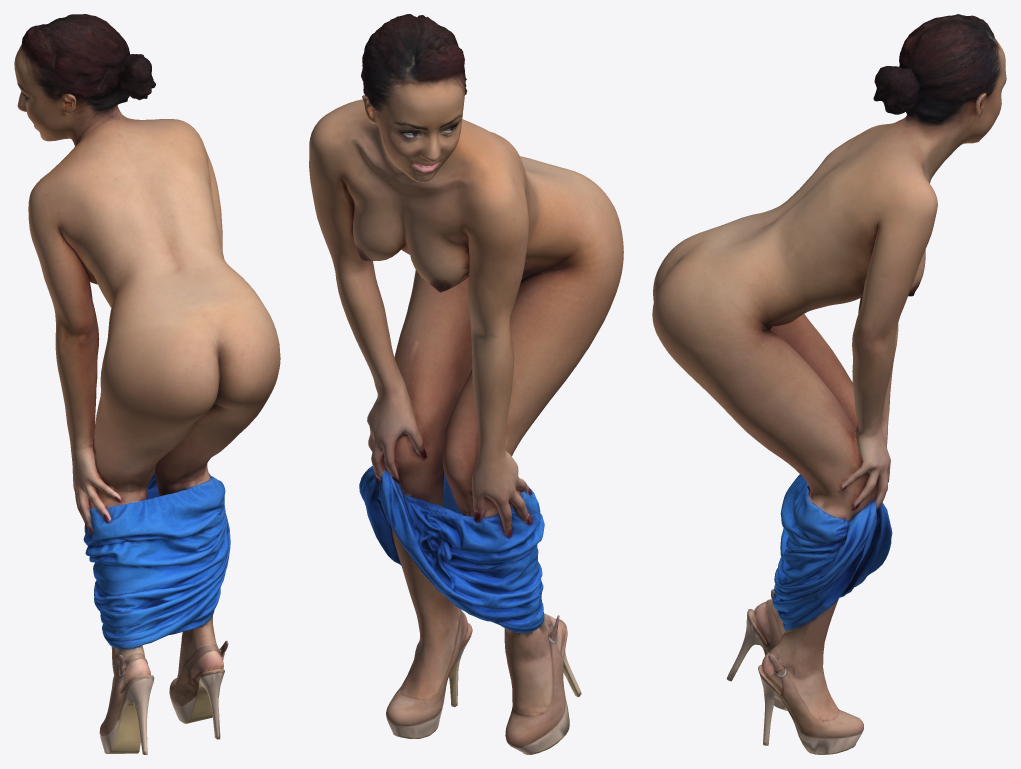
3 views of the same model, side by side, from view 1: azimuth 30°, elevation 25°; view 2: azimuth 150°, elevation 25°; view 3: azimuth 270°, elevation 25° (orthographic). The views are drawn at different scales.
Visible parts, largest first — view 1: 21_LOD2_0_3; view 2: 21_LOD2_0_3; view 3: 21_LOD2_0_3.
Boxes of the visible parts, bbox=[...] form: 21_LOD2_0_3: bbox=[14, 14, 280, 754]; 21_LOD2_0_3: bbox=[309, 14, 623, 754]; 21_LOD2_0_3: bbox=[652, 14, 1006, 754].
Bounding box in the file's own units: 0.3412 × 1.2 × 0.5462.
1 material, 1 textured.
